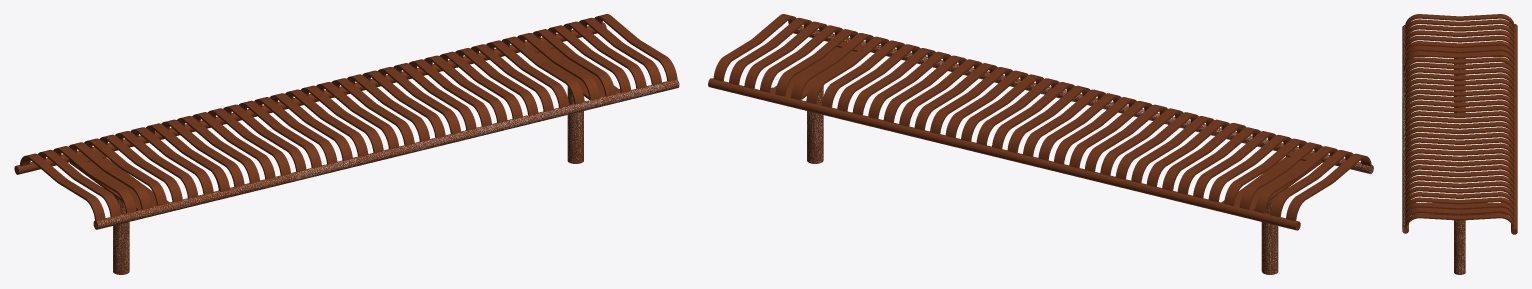
3 views of the same model, side by side, from view 1: azimuth 30°, elevation 25°; view 2: azimuth 150°, elevation 25°; view 3: azimuth 270°, elevation 25° (orthographic). The views are drawn at different scales.
Parts seen in each view (by area): view 1: mesh4_mesh4-geometry, mesh6_mesh6-geometry, mesh1_mesh1-geometry, mesh21_mesh21-geometry, mesh36_mesh36-geometry, mesh9_mesh9-geometry, mesh24_mesh24-geometry; view 2: mesh4_mesh4-geometry, mesh1_mesh1-geometry, mesh6_mesh6-geometry, mesh21_mesh21-geometry, mesh36_mesh36-geometry, mesh9_mesh9-geometry, mesh24_mesh24-geometry; view 3: mesh4_mesh4-geometry, mesh1_mesh1-geometry, mesh6_mesh6-geometry, mesh36_mesh36-geometry, mesh24_mesh24-geometry, mesh9_mesh9-geometry, mesh21_mesh21-geometry.
Boxes of the visible parts, x1,y1,x2,y2 form: mesh4_mesh4-geometry: (20, 14, 677, 221); mesh6_mesh6-geometry: (93, 79, 679, 229); mesh1_mesh1-geometry: (14, 22, 606, 174); mesh21_mesh21-geometry: (113, 196, 129, 274); mesh36_mesh36-geometry: (567, 86, 583, 163); mesh9_mesh9-geometry: (69, 151, 169, 210); mesh24_mesh24-geometry: (528, 41, 620, 99); mesh4_mesh4-geometry: (713, 14, 1371, 220); mesh1_mesh1-geometry: (708, 78, 1300, 230); mesh6_mesh6-geometry: (793, 26, 1373, 174); mesh21_mesh21-geometry: (1261, 196, 1278, 274); mesh36_mesh36-geometry: (807, 86, 823, 163); mesh9_mesh9-geometry: (1221, 151, 1322, 210); mesh24_mesh24-geometry: (770, 41, 862, 99); mesh4_mesh4-geometry: (1403, 14, 1514, 228); mesh1_mesh1-geometry: (1511, 24, 1517, 234); mesh6_mesh6-geometry: (1402, 25, 1408, 233); mesh36_mesh36-geometry: (1454, 215, 1465, 274); mesh24_mesh24-geometry: (1411, 202, 1508, 215); mesh9_mesh9-geometry: (1410, 43, 1509, 56); mesh21_mesh21-geometry: (1454, 58, 1465, 113).
Bounding box in the file's own units: 0.9587 × 0.1698 × 0.2281.
